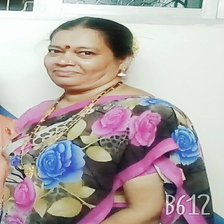no_mask: (44, 35, 112, 88)
